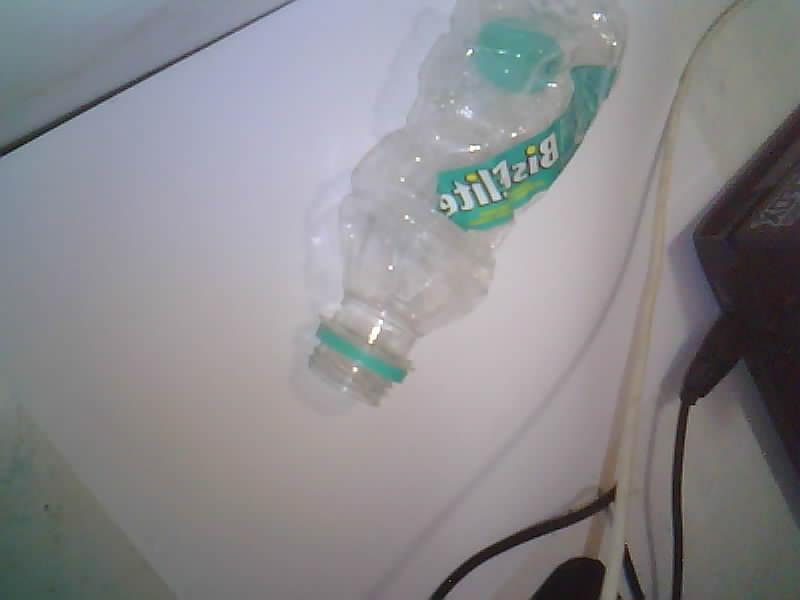non-biodegradable: (309, 0, 626, 403)
